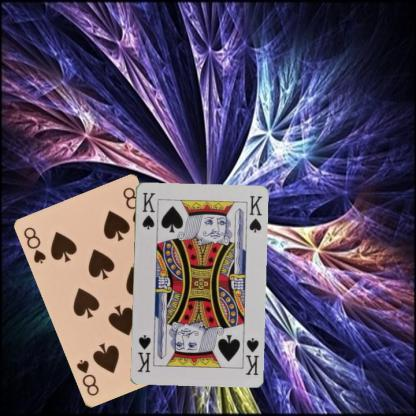8s: (21, 224, 48, 265)
Ks: (243, 334, 260, 376), (139, 190, 156, 230)
